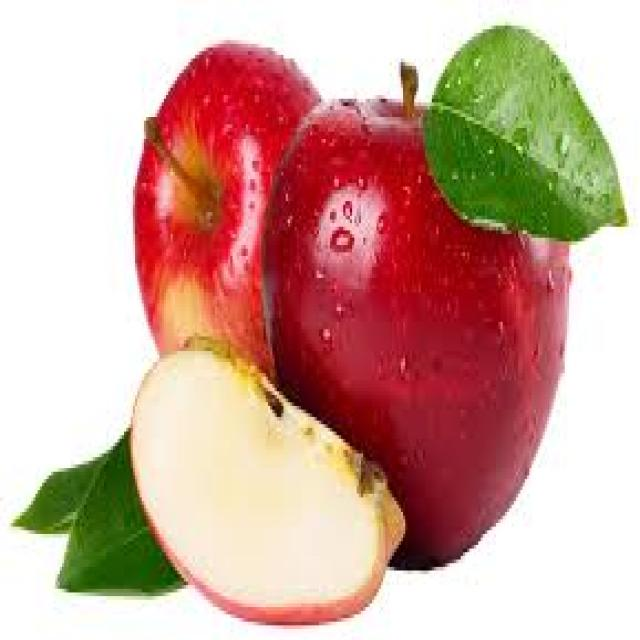apple: (263, 101, 581, 573)
